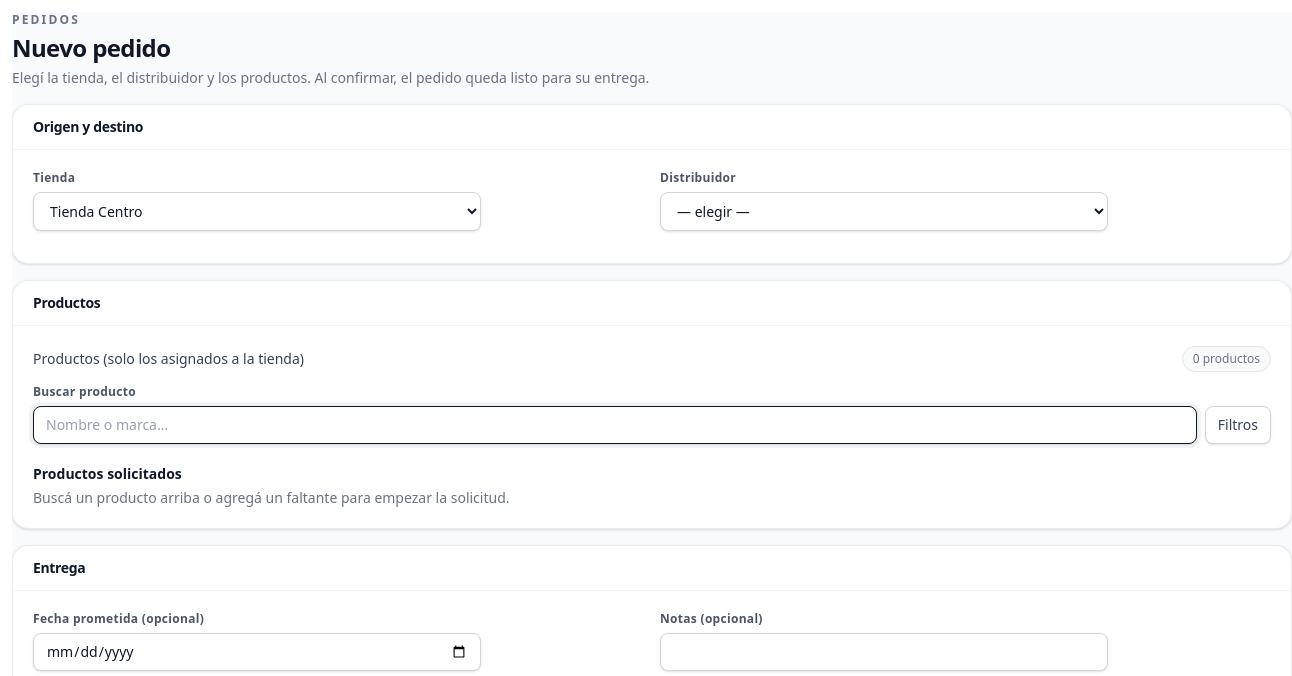
Test: NewOrderPage · solicitudes entre tienda y distribuidor vinculado › admin: conserva distribuidores globales y productos de la tienda
This screenshot has width=1292, height=676.
Type "Arroz" into the search field labelled "Buscar producto" at (615, 425), box [33,406,1197,444]
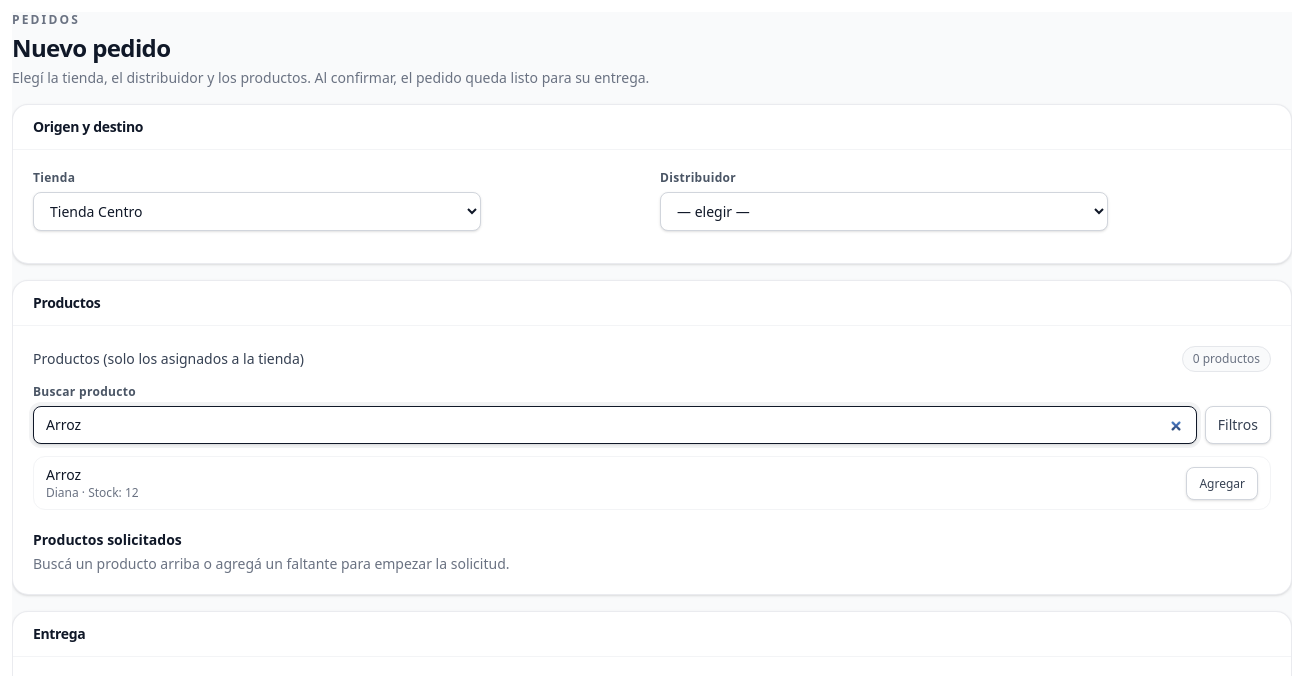
Click the button with aria-label "Agregar Arroz" at (1222, 483), box [1186,466,1258,500]
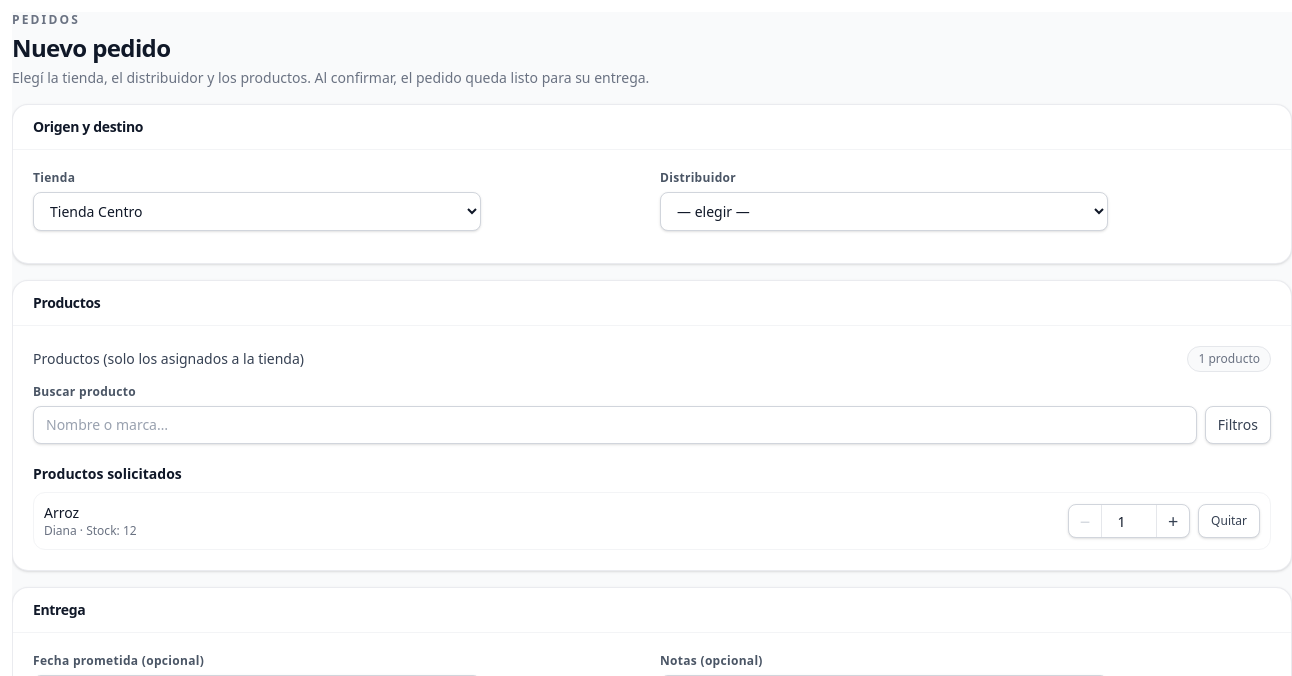
Now the number field named "Cantidad de Arroz" is shown, box [1101,505,1157,537]
